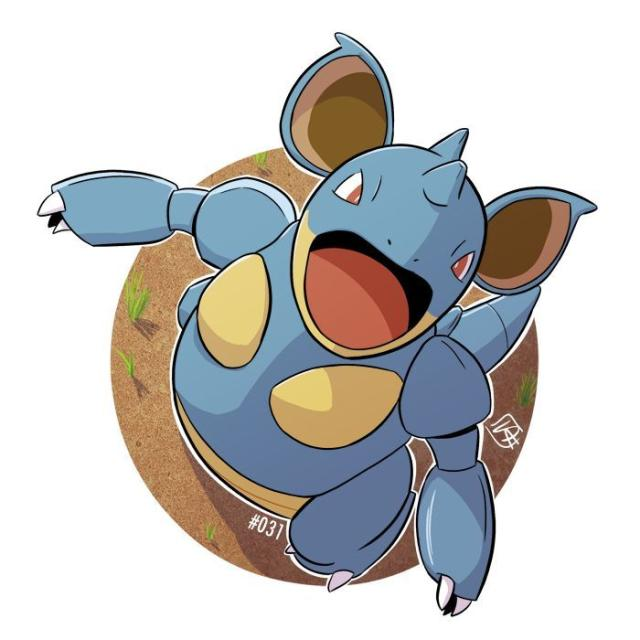Nidoqueen: (129, 36, 571, 607)
